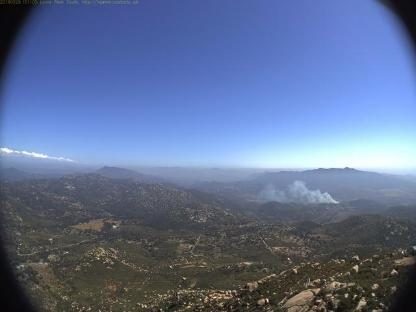smoke: (252, 176, 338, 208)
